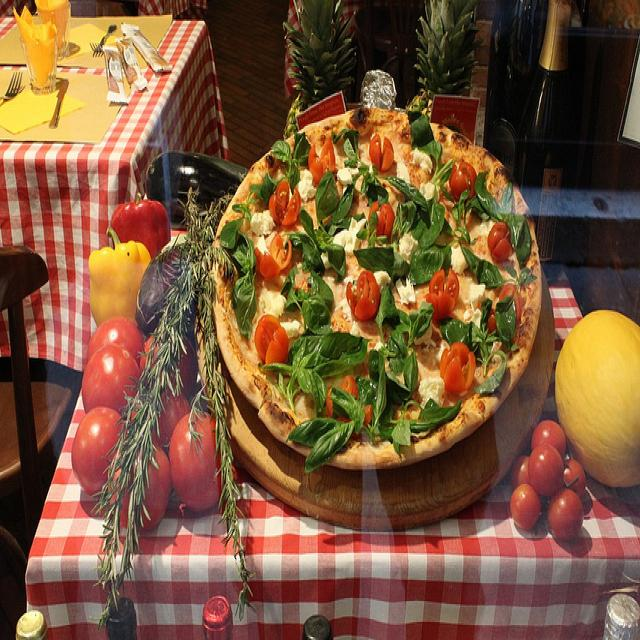chair: (2, 245, 84, 554), (147, 150, 251, 234)
dining table: (29, 93, 640, 586), (3, 17, 227, 376)
